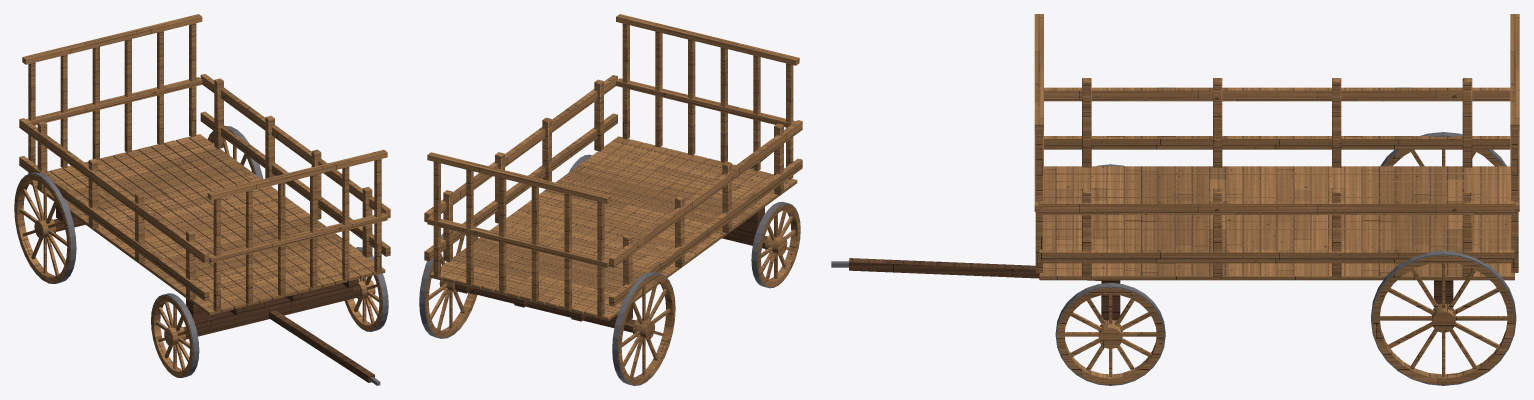
The model's file is hay_wagon.glb.
3 views of the same model, side by side, from view 1: azimuth 30°, elevation 25°; view 2: azimuth 150°, elevation 25°; view 3: azimuth 270°, elevation 25° (orthographic). The views are drawn at different scales.
Parts seen in each view (by area): view 1: hay_wagon_wood, hay_wagon_dkwood, hay_wagon_iron; view 2: hay_wagon_wood, hay_wagon_iron, hay_wagon_dkwood; view 3: hay_wagon_wood, hay_wagon_dkwood, hay_wagon_iron.
Part boxes in pixels (x1,y1,x2,y2): hay_wagon_wood: (14,14,390,376); hay_wagon_dkwood: (53,204,374,382); hay_wagon_iron: (14,126,388,385); hay_wagon_wood: (424,14,802,384); hay_wagon_iron: (419,154,800,385); hay_wagon_dkwood: (455,151,773,332); hay_wagon_wood: (1034,14,1519,384); hay_wagon_dkwood: (849,258,1453,320); hay_wagon_iron: (831,132,1516,385).
Size of the model in its own units: 2.52 by 2.37 by 5.79.
3 materials, 2 textured.
